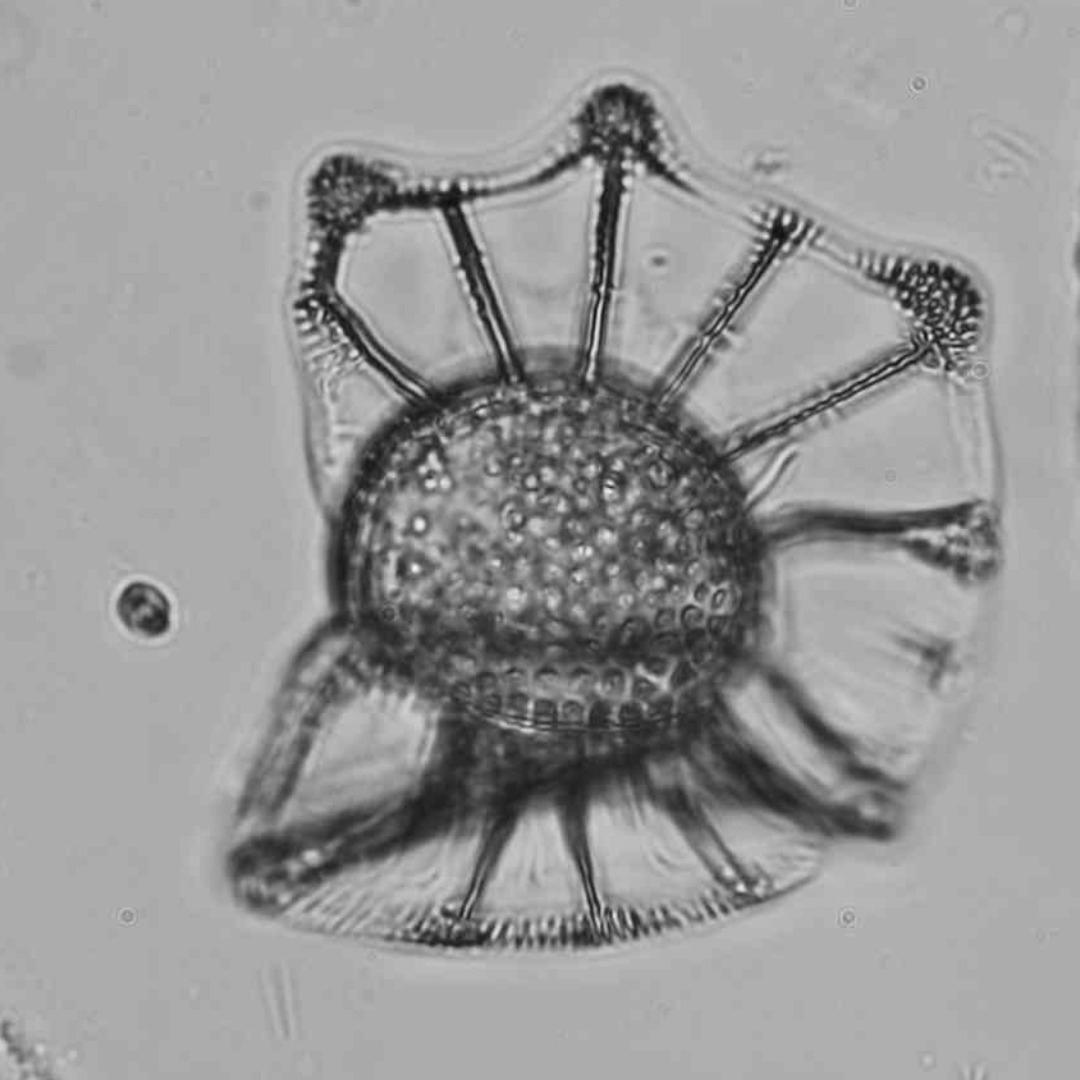ornithocercus_thumii: (228, 76, 997, 950)
